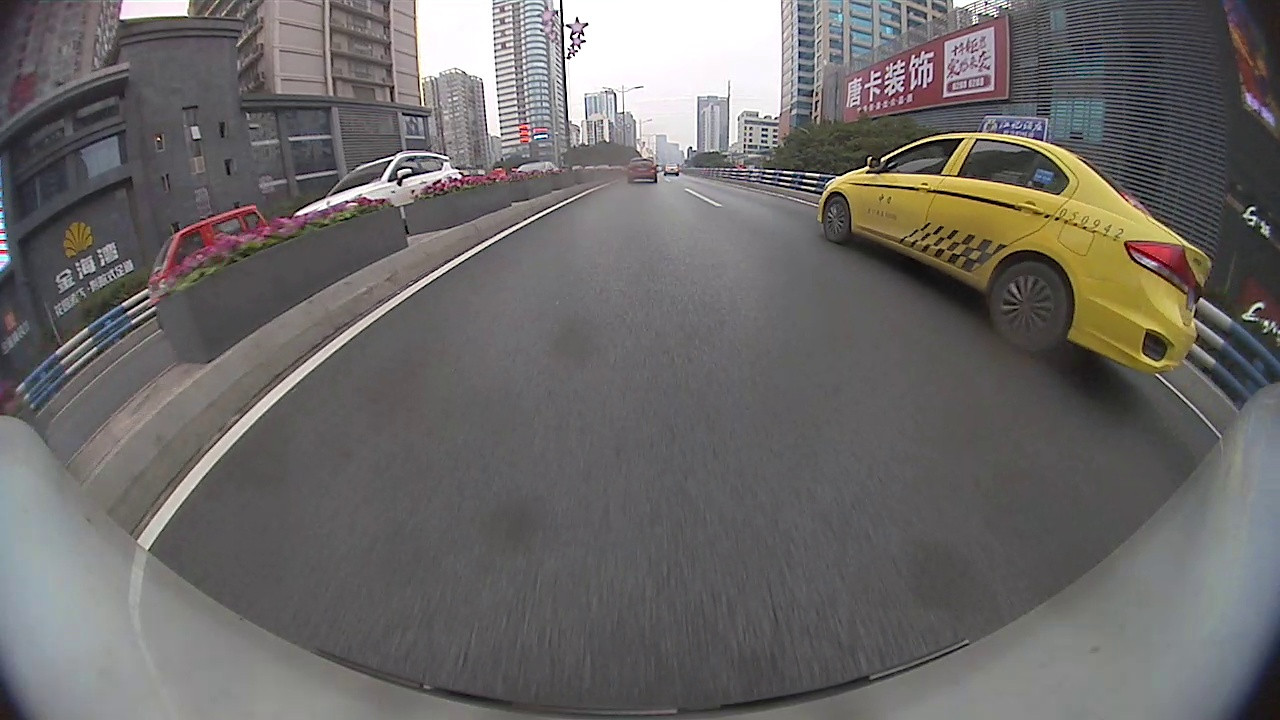car: (813, 109, 1216, 381), (290, 149, 468, 233), (144, 201, 274, 311), (625, 155, 660, 186), (511, 158, 565, 178), (662, 159, 683, 177)
front: (820, 196, 852, 244)
rear: (988, 258, 1070, 356)
